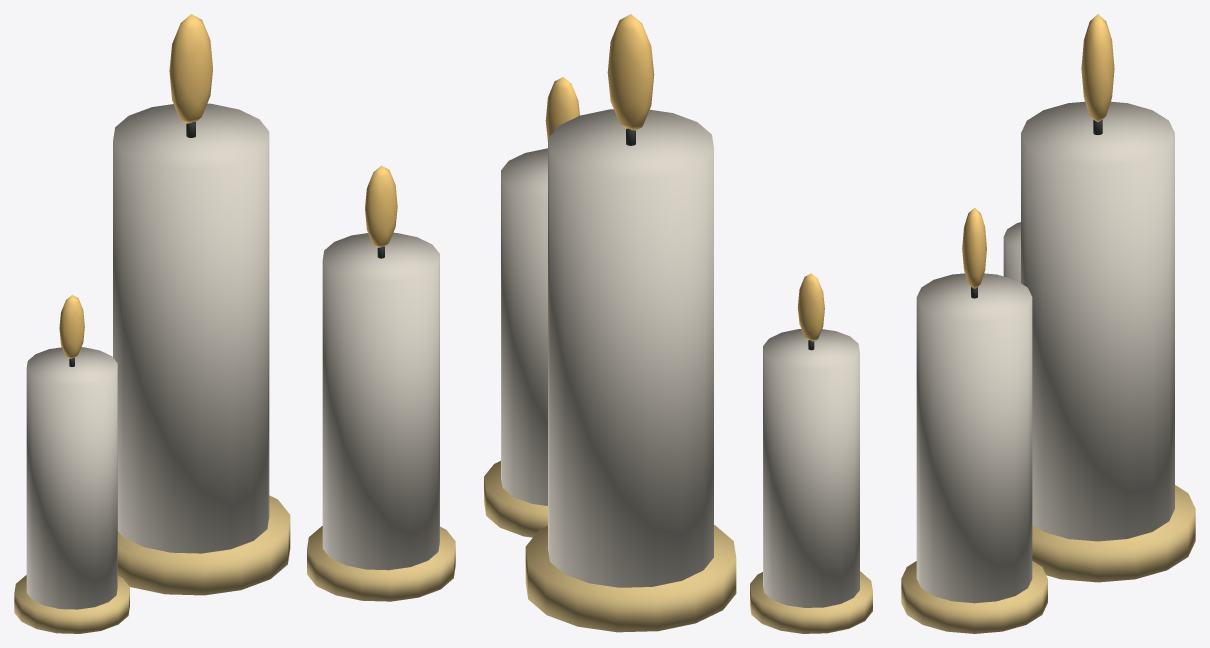
The model's file is candle-trio.glb.
3 renders of one model, left to right at view 1: azimuth 30°, elevation 25°; view 2: azimuth 150°, elevation 25°; view 3: azimuth 270°, elevation 25°, orthographic. The views are drawn at different scales.
Visible parts, largest first — view 1: wax-0, base-1, flame-3; view 2: wax-0, base-1, flame-3; view 3: wax-0, base-1, flame-3.
Part boxes in pixels (x1,y1,x2,y2): wax-0: (26, 103, 439, 609); base-1: (14, 495, 455, 633); flame-3: (59, 14, 397, 358); wax-0: (501, 109, 859, 607); base-1: (484, 461, 872, 633); flame-3: (545, 14, 824, 341); wax-0: (916, 101, 1174, 603); base-1: (901, 485, 1195, 633); flame-3: (962, 14, 1114, 288).
Size of the model in its own units: 0.884 by 1.18 by 0.5965.
